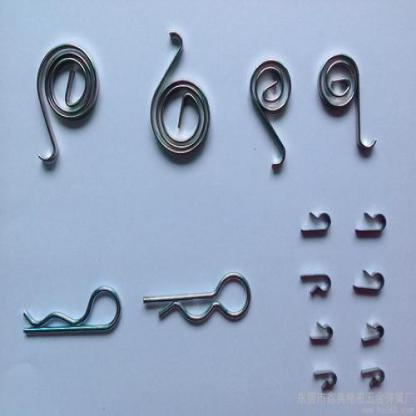FOD: (147, 27, 212, 161), (32, 41, 100, 166), (315, 51, 378, 152), (249, 57, 294, 172)
